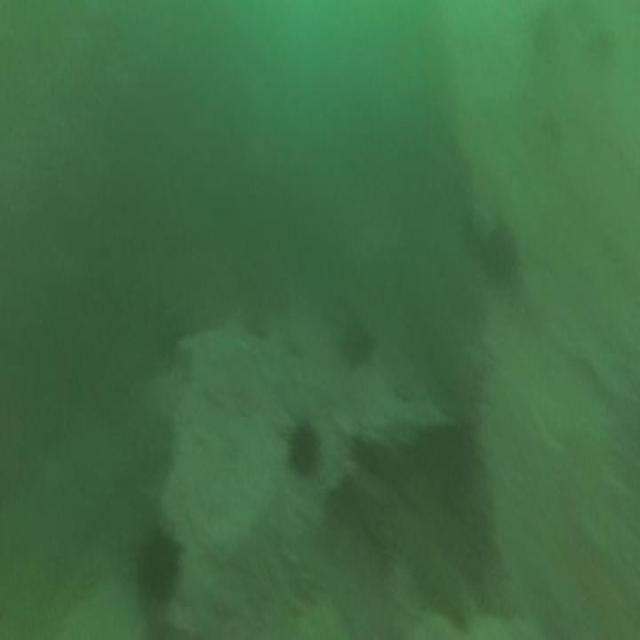echinus: (129, 521, 184, 610), (479, 218, 521, 292), (284, 414, 324, 484), (529, 2, 566, 68), (340, 314, 377, 370)
